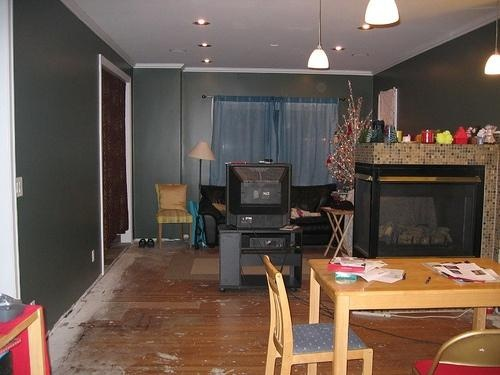chair: (262, 256, 376, 375), (414, 329, 500, 374), (157, 184, 194, 248)
diningtable: (305, 258, 500, 373)
sofa: (198, 184, 344, 248)
tvmonitor: (224, 163, 292, 230)
